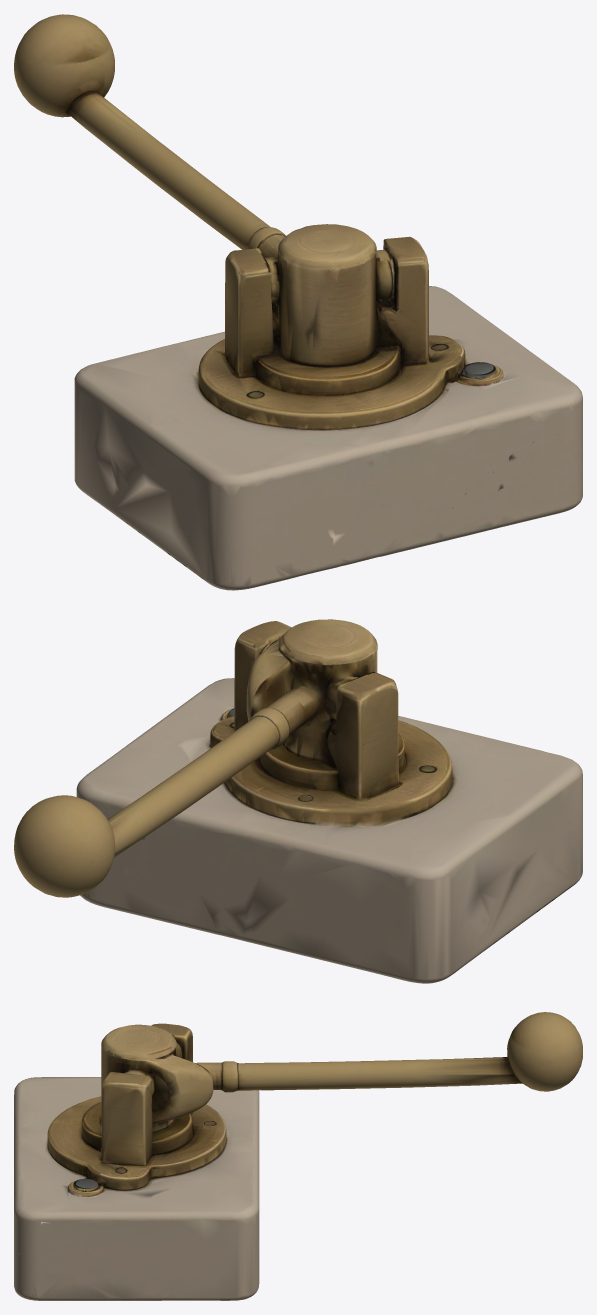
File: hero-harness-human-key-v1.glb
3 views of the same model, one above another, from view 1: azimuth 30°, elevation 25°; view 2: azimuth 150°, elevation 25°; view 3: azimuth 270°, elevation 25° (orthographic). The views are drawn at different scales.
Parts seen in each view (by area): view 1: node_0; view 2: node_0; view 3: node_0.
Part boxes in pixels (x1=…): node_0: x1=14, y1=14, x2=582, y2=590; node_0: x1=14, y1=619, x2=582, y2=983; node_0: x1=14, y1=1012, x2=582, y2=1300.
Size of the model in its own units: 0.583 by 0.4234 by 1.
Materials: 1 (1 with a texture image).
